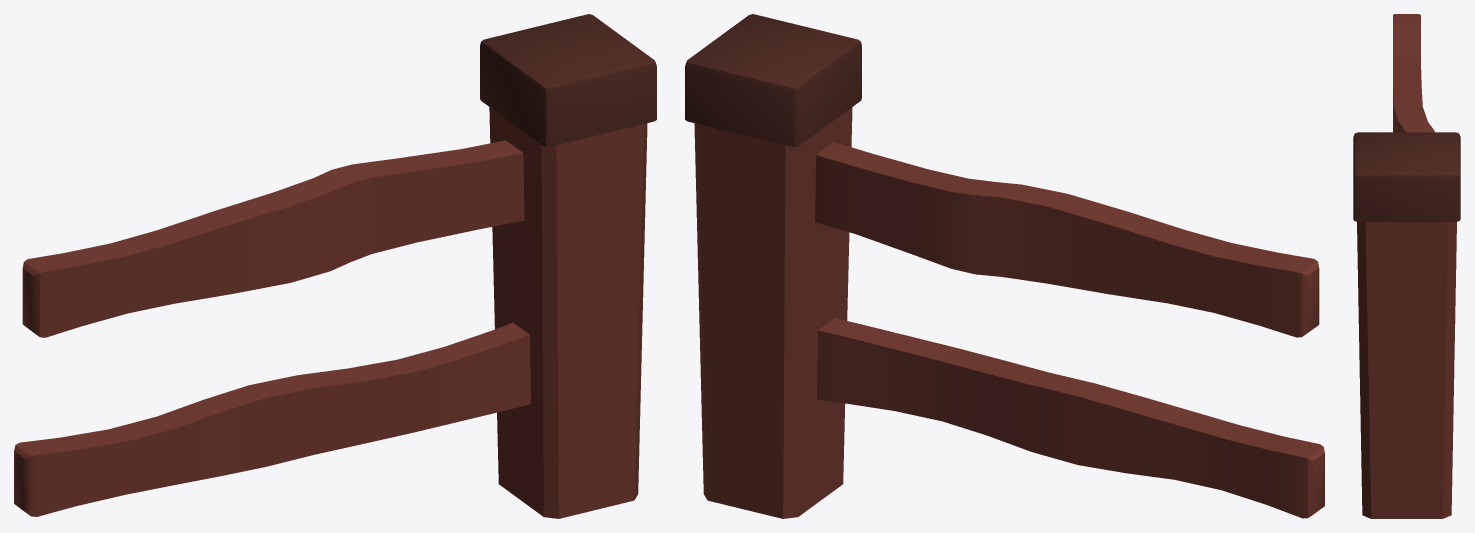
Rendered from fence02.fbx.
3 renders of one model, left to right at view 1: azimuth 30°, elevation 25°; view 2: azimuth 150°, elevation 25°; view 3: azimuth 270°, elevation 25°, orthographic. The views are drawn at different scales.
Visible parts, largest first — view 1: fence02; view 2: fence02; view 3: fence02.
Boxes of the visible parts, x1,y1,x2,y2 form: fence02: (14,14,656,518); fence02: (685,14,1324,518); fence02: (1353,14,1460,518).
Size of the model in its own units: 1.49 by 1.04 by 0.29.
